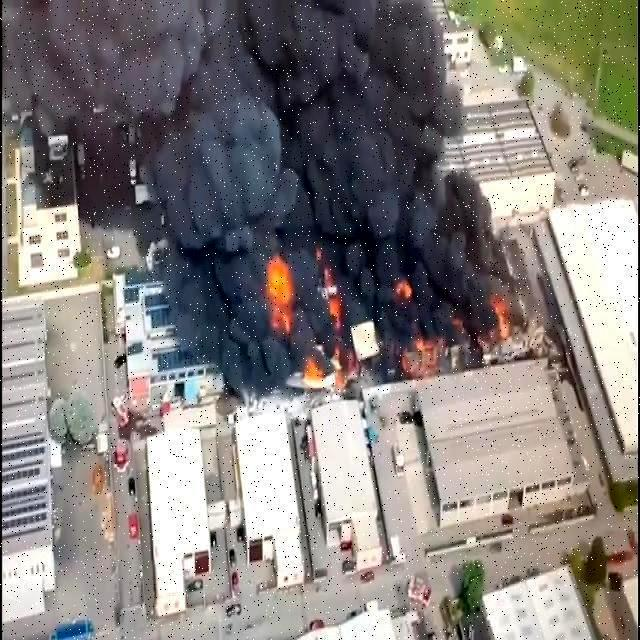no_helmet: (12, 9, 510, 222), (154, 222, 535, 376)
